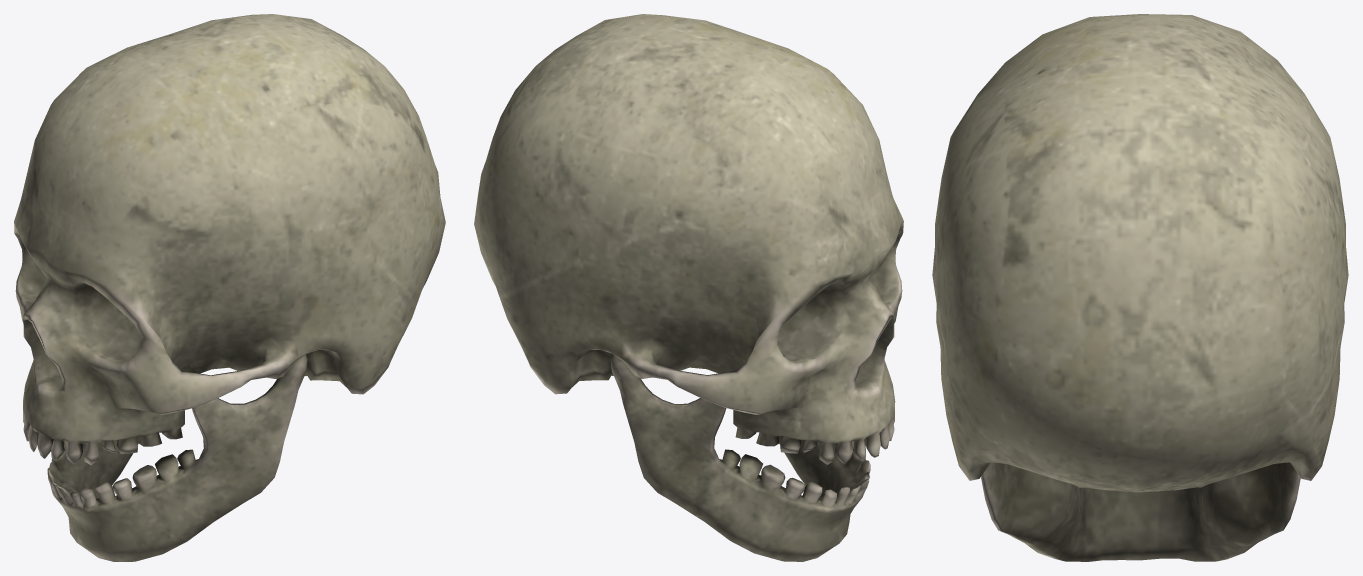
Rendered from SM_Skull.fbx.
3 renders of one model, left to right at view 1: azimuth 30°, elevation 25°; view 2: azimuth 150°, elevation 25°; view 3: azimuth 270°, elevation 25°, orthographic. The views are drawn at different scales.
Visible parts, largest first — view 1: SM_Skull_LOD0; view 2: SM_Skull_LOD0; view 3: SM_Skull_LOD0.
Boxes of the visible parts, bbox=[...] form: SM_Skull_LOD0: bbox=[14, 14, 445, 561]; SM_Skull_LOD0: bbox=[474, 14, 903, 561]; SM_Skull_LOD0: bbox=[932, 14, 1348, 561].
Bounding box in the file's own units: 22.1 × 16.48 × 25.69.
1 material, 1 textured.
